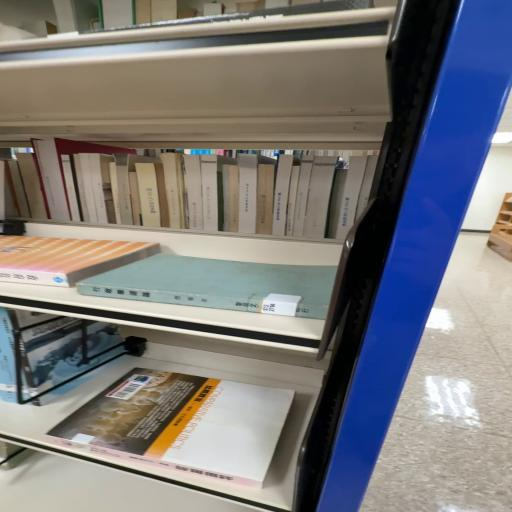flat: (48, 368, 296, 488), (76, 255, 338, 321)
